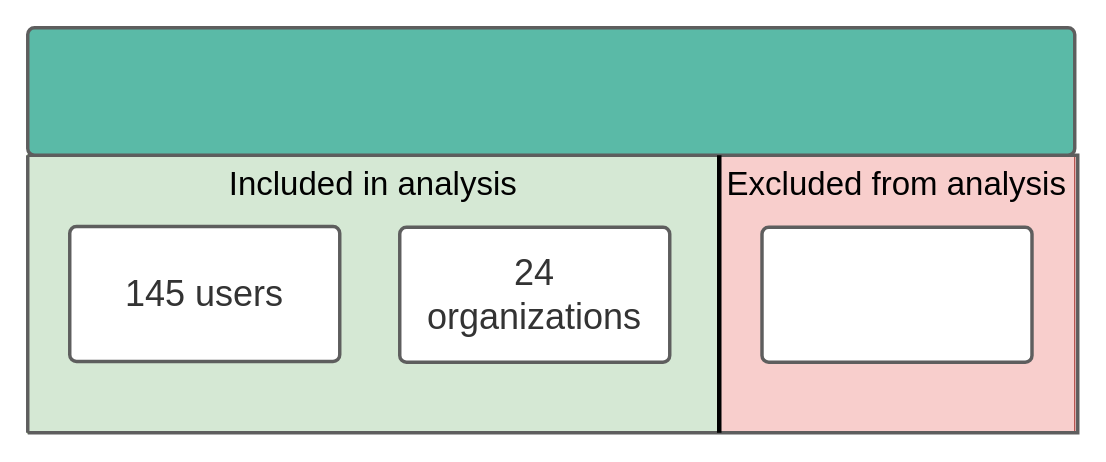
Some shapes in this 1106 by 462 pixel diagram are drawn without their labels. Each missing label, with the centre of its shape:
"7 collaboration groups" goes at pixel 896 294.
"Phase 1: User labelling results" goes at pixel 550 90.
